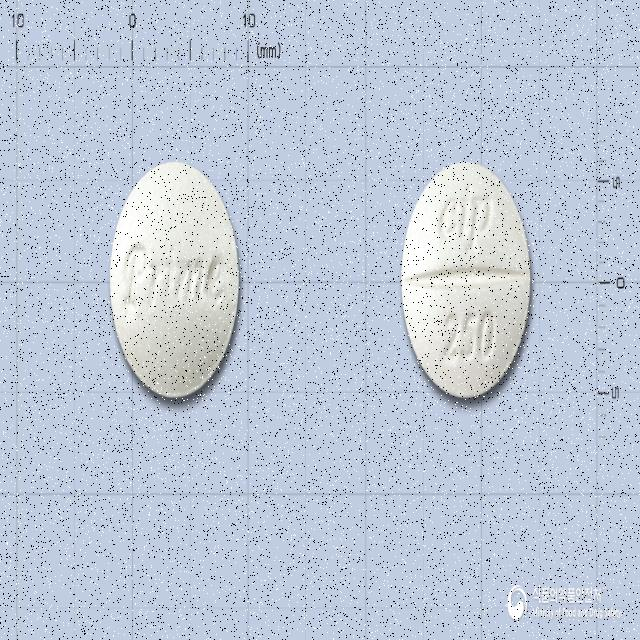Loxin: (400, 159, 532, 399), (110, 160, 240, 400)
